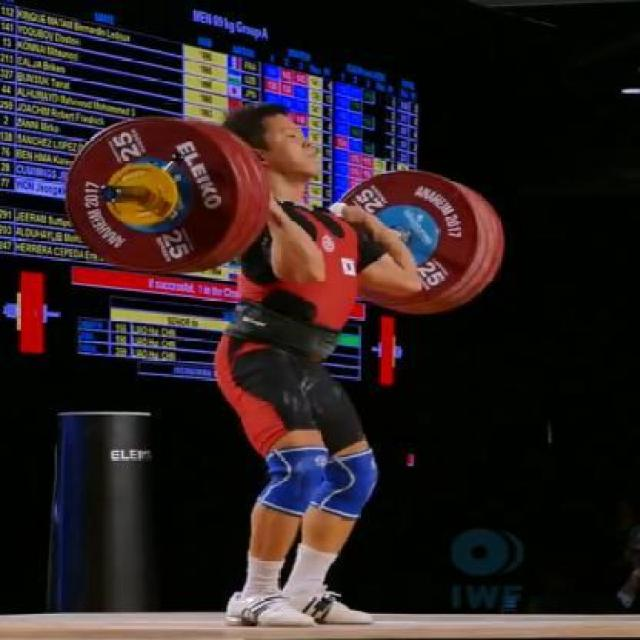barbell: (64, 108, 245, 281)
